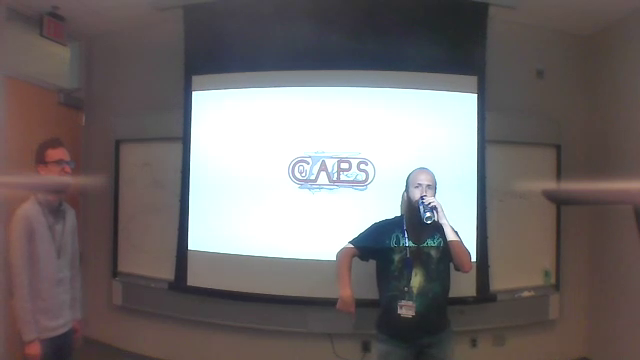down: (327, 287, 361, 331)
